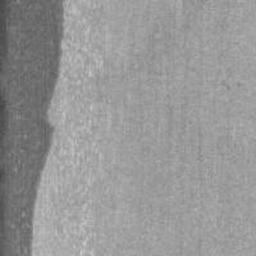Water spot: (0, 0, 67, 256)
